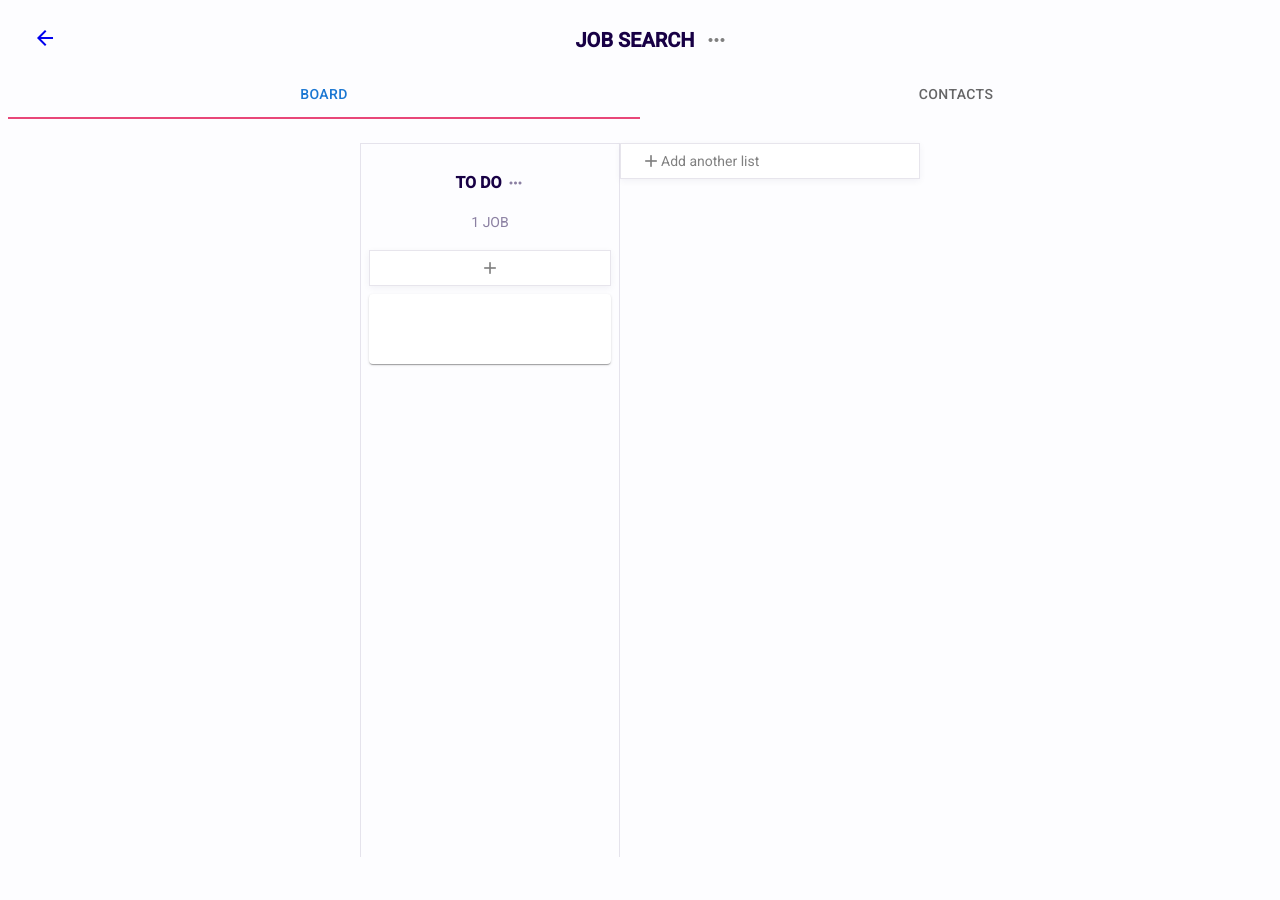
Test case: Board › shows Board/Contacts tabs and switches between them on a job-search board
The image size is (1280, 900).
Expected: the heading "Job Search" is shown, 576,28 -> 694,52
Expected: the text "Jamie" is not shown
Click the tab "Contacts": (956, 95) 640,71 -> 1272,119
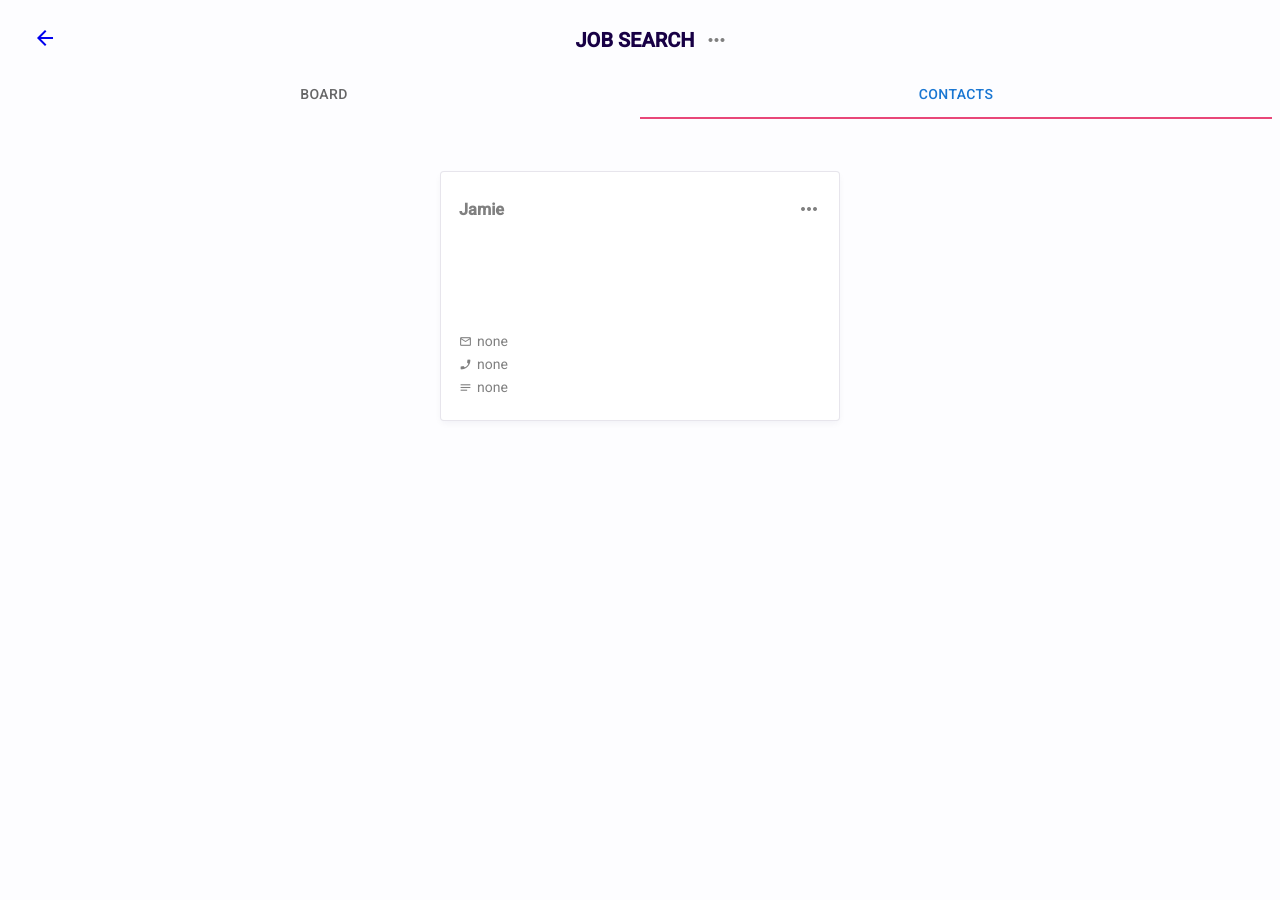
Expected: the heading "Jamie" is shown, 459,200 -> 504,218
Expected: the text "Write tests" is gone
